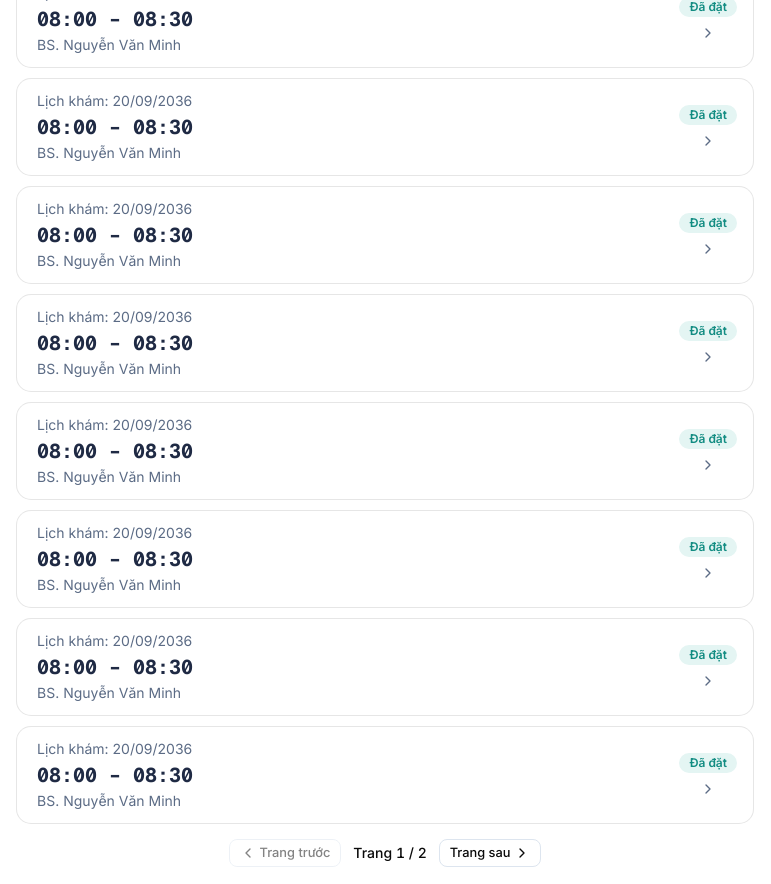
AppointmentHistoryView › click 'Trang sau' → hiển thị 2 card còn lại và label 'Trang 2/2'
This screenshot has width=771, height=884.
(page scrolled)
Click the button "Trang sau". click: (490, 853)
box: [439,839,541,867]
(page scrolled)
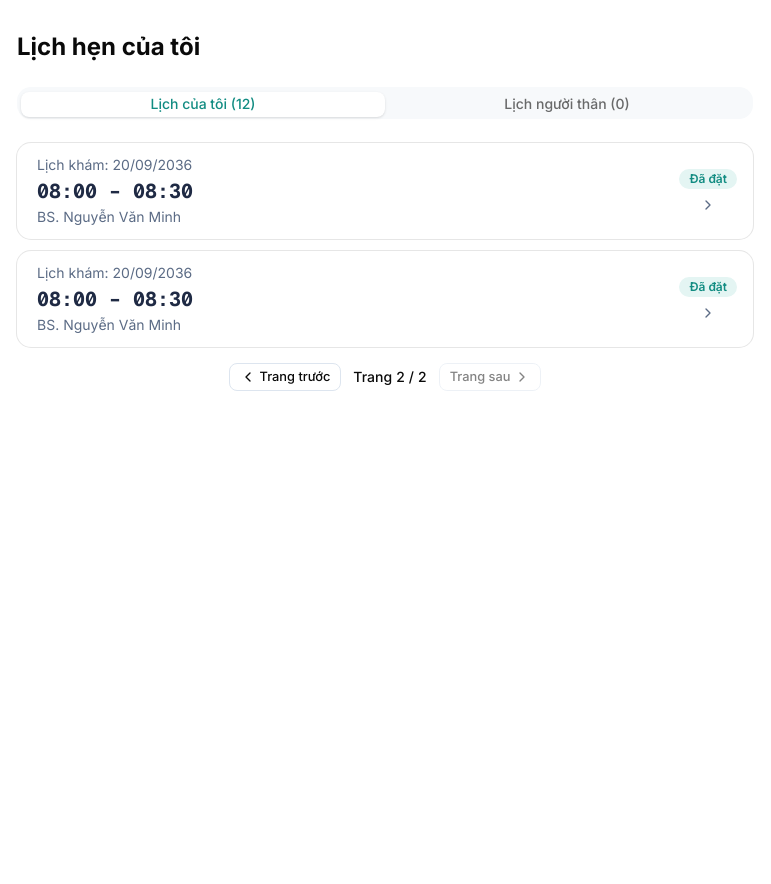
Check: the number of buttons with test id "appointment-history-card" is 2, box [17,143,753,239]; [17,251,753,347]
Check: the text "Trang 2 / 2" is shown, box [353,367,427,387]
